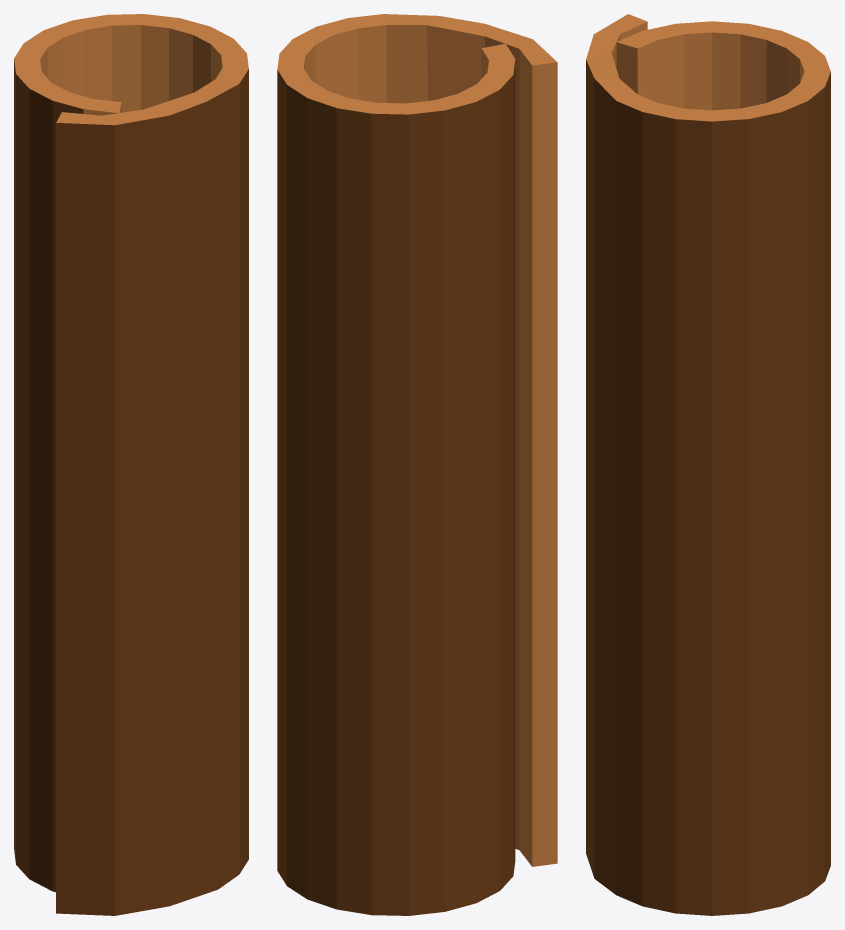
Rendered from Cinnamon.fbx.
The picture shows the model from 3 angles, left to right: view 1: azimuth 30°, elevation 25°; view 2: azimuth 150°, elevation 25°; view 3: azimuth 270°, elevation 25°; orthographic projection.
Visible parts, largest first — view 1: Cylinder; view 2: Cylinder; view 3: Cylinder.
Boxes of the visible parts, box(x1,y1,x2,y2) form: Cylinder: box(14, 14, 248, 915); Cylinder: box(277, 14, 557, 915); Cylinder: box(586, 14, 830, 915).
Bounding box in the file's own units: 81.16 × 280 × 78.05.
